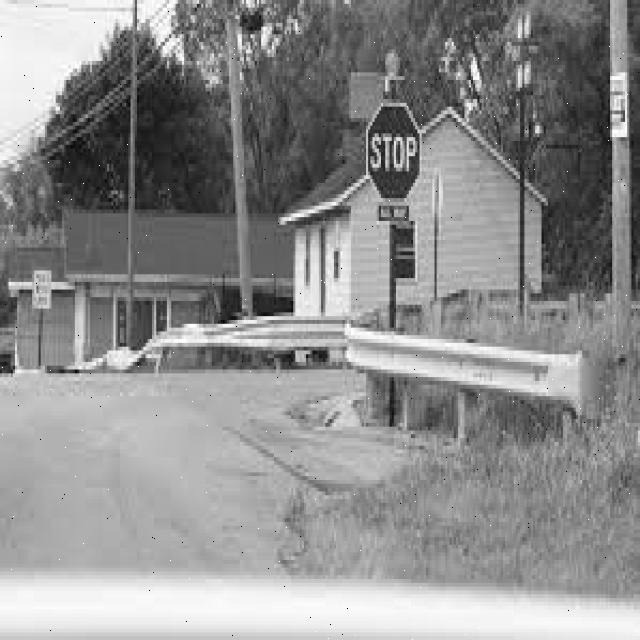stop sign: (368, 102, 420, 222)
